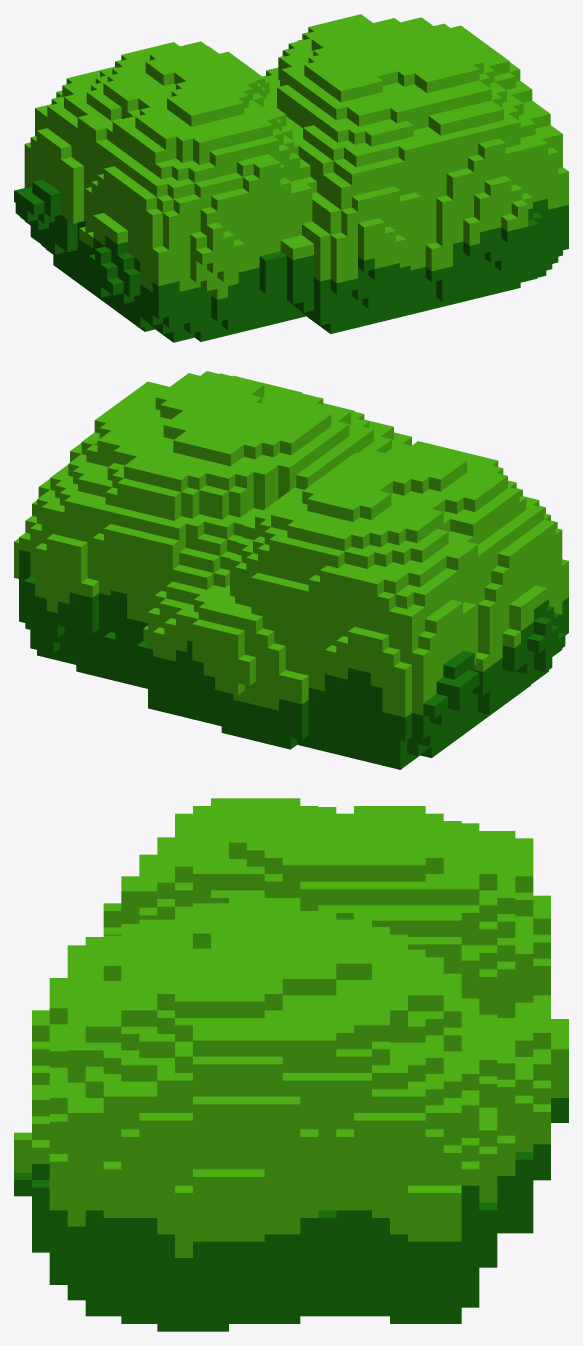
File: bush_1.glb
The picture shows the model from 3 angles, top to bottom: view 1: azimuth 30°, elevation 25°; view 2: azimuth 150°, elevation 25°; view 3: azimuth 270°, elevation 25°; orthographic projection. The views are drawn at different scales.
Visible parts, largest first — view 1: bush_1; view 2: bush_1; view 3: bush_1.
Boxes of the visible parts, x1,y1,x2,y2 form: bush_1: [14, 14, 568, 342]; bush_1: [14, 371, 568, 769]; bush_1: [14, 798, 568, 1331].
Bounding box in the file's own units: 4 × 1.8 × 3.1.
Materials: 1 (1 with a texture image).
